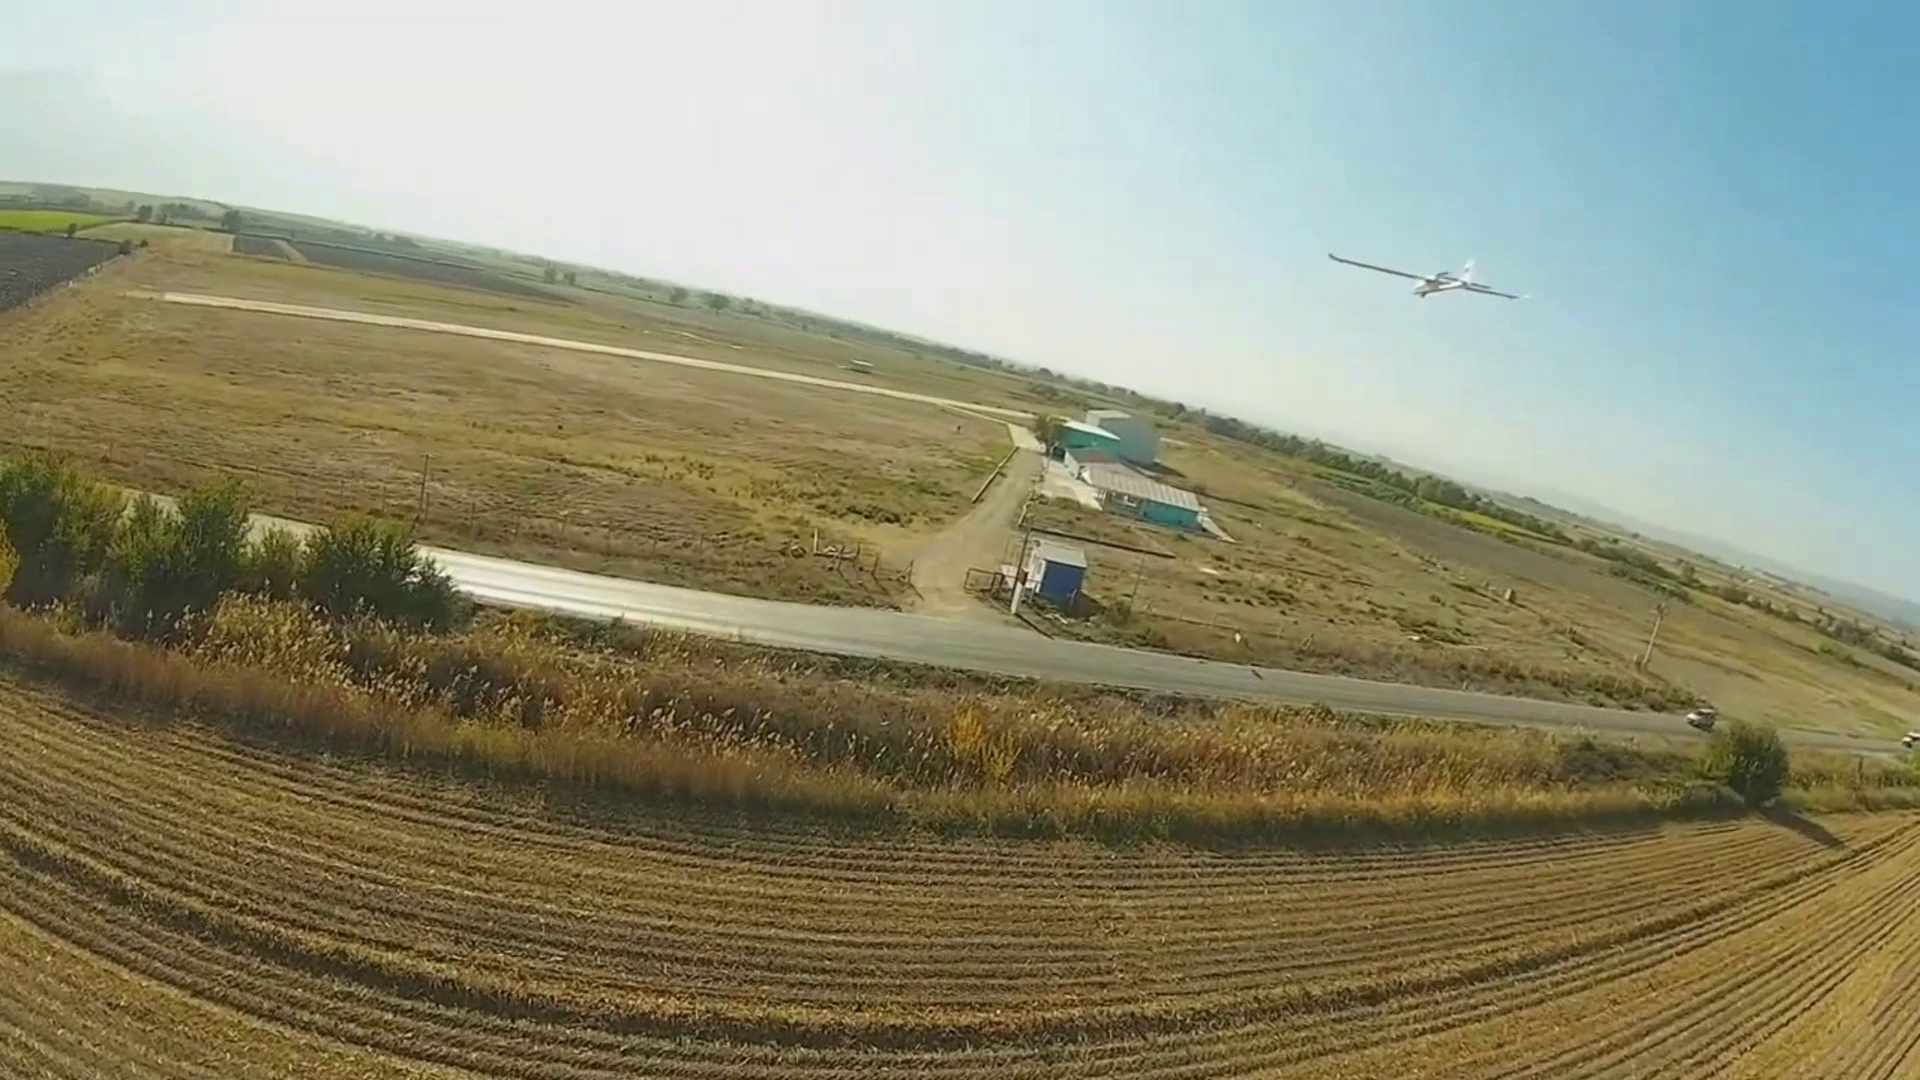airplane: (1327, 248, 1524, 303), (1367, 258, 1526, 301), (1412, 262, 1524, 302)
